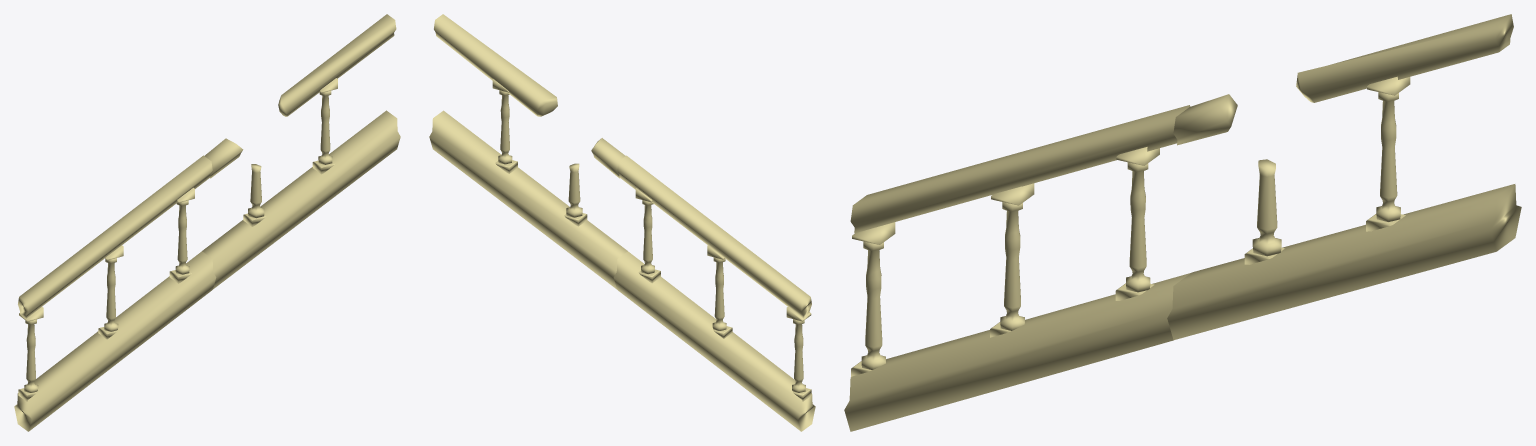
Rendered from Stairs_Wood_01D_Lod0.fbx.
3 views of the same model, side by side, from view 1: azimuth 30°, elevation 25°; view 2: azimuth 150°, elevation 25°; view 3: azimuth 330°, elevation 25° (orthographic). The views are drawn at different scales.
Visible parts, largest first — view 1: Stairs_Wood_01D_Lod0; view 2: Stairs_Wood_01D_Lod0; view 3: Stairs_Wood_01D_Lod0.
Boxes of the visible parts, box(x1,y1,x2,y2) form: Stairs_Wood_01D_Lod0: box(14, 14, 400, 431); Stairs_Wood_01D_Lod0: box(429, 14, 815, 431); Stairs_Wood_01D_Lod0: box(844, 14, 1521, 431).
Bounding box in the file's own units: 301 × 250 × 25.19.
